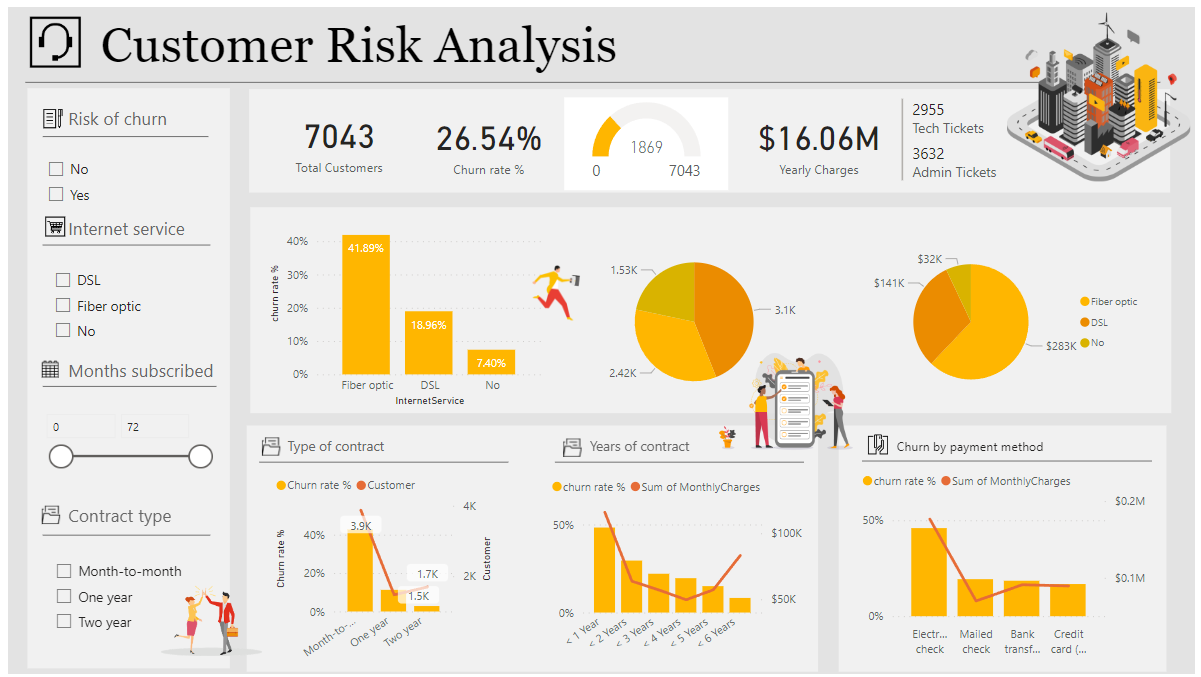

What the dashboard file says about the page in this screenshot:
{"tool":"powerbi","page":{"name":"Customer Risk Analysis","canvas":[1280,720],"ordinal":1},"visuals":[{"type":"basicShape","box":[249.8,87.8,1013.8,113.8],"z":0},{"type":"basicShape","box":[892.2,448.5,360.8,271],"z":1000},{"type":"basicShape","box":[251.8,448.5,628.9,271],"z":2000},{"type":"basicShape","box":[251.8,214.2,1013.8,226.7],"z":3000},{"type":"basicShape","box":[18.3,81,222.8,638.6],"z":4000},{"type":"card","fields":{"Values":["Count(01 Churn-Dataset.customerID)"]},"box":[260,88,194,114],"z":5000},{"type":"card","fields":{"Values":["01 Churn-Dataset.churn rate %"]},"box":[421.4,85.7,194.3,121.4],"z":6000},{"type":"card","fields":{"Values":["Sum(01 Churn-Dataset.TotalCharges)"]},"box":[777.1,88.6,194.3,115.7],"z":7000},{"type":"clusteredColumnChart","fields":{"Y":["01 Churn-Dataset.churn rate %"],"Category":["01 Churn-Dataset.InternetService"]},"box":[277.1,207.1,304.3,228.6],"z":8000},{"type":"pieChart","fields":{"Y":["CountNonNull(01 Churn-Dataset.InternetService)"],"Category":["01 Churn-Dataset.InternetService"]},"box":[600,248.6,280,181.4],"z":9000},{"type":"pieChart","fields":{"Category":["01 Churn-Dataset.InternetService"],"Y":["Sum(01 Churn-Dataset.MonthlyCharges)"]},"box":[915.7,248.6,315.7,181.4],"z":10000},{"type":"gauge","fields":{"Y":["01 Churn-Dataset.Count of Churn for Yes"],"MaxValue":["CountNonNull(01 Churn-Dataset.Churn)"]},"box":[600,97.1,177.1,100],"z":11000},{"type":"lineClusteredColumnComboChart","fields":{"Category":["01 Churn-Dataset.Contract"],"Y":["01 Churn-Dataset.churn rate %"],"Y2":["CountNonNull(01 Churn-Dataset.customerID)"]},"box":[284.3,496.5,244.3,222],"z":12000},{"type":"lineClusteredColumnComboChart","fields":{"Y":["01 Churn-Dataset.churn rate %"],"Category":["01 Churn-Dataset.Loyalty"],"Y2":["Sum(01 Churn-Dataset.MonthlyCharges)"]},"box":[581.4,497.8,280,217.9],"z":13000},{"type":"lineClusteredColumnComboChart","fields":{"Y":["01 Churn-Dataset.churn rate %"],"Y2":["Sum(01 Churn-Dataset.MonthlyCharges)"],"Category":["01 Churn-Dataset.PaymentMethod"]},"box":[916.4,490.6,315.7,217.1],"z":14000},{"type":"multiRowCard","fields":{"Values":["Sum(01 Churn-Dataset.numTechTickets)","Sum(01 Churn-Dataset.numAdminTickets)"]},"box":[958.6,94.3,150,101.4],"z":15000},{"type":"textbox","box":[94.5,4.8,1167.1,75.2],"z":16000},{"type":"basicShape","box":[9,61,1244.3,40.1],"z":17000},{"type":"image","box":[17.4,4.8,67.5,65.6],"z":18000},{"type":"image","box":[1072.6,0,207.4,193.9],"z":19000},{"type":"textbox","box":[59.8,102.2,174.6,40.5],"z":20000},{"type":"basicShape","box":[28,120.6,198.7,39.5],"z":21000},{"type":"image","box":[31.8,105.1,34.7,30.9],"z":22000},{"type":"slicer","fields":{"Values":["01 Churn-Dataset.Churn"]},"box":[31.4,155.7,195.7,70],"z":23000},{"type":"basicShape","box":[28,237,200.6,38.6],"z":24000},{"type":"textbox","box":[59.8,221.2,180.4,40.5],"z":25000},{"type":"image","box":[34.7,219.9,31.8,34.7],"z":26000},{"type":"slicer","fields":{"Values":["01 Churn-Dataset.InternetService"]},"box":[38.6,275.7,170,95.7],"z":27000},{"type":"basicShape","box":[28,389.7,207.4,38.6],"z":28000},{"type":"image","box":[31.8,374.3,28,34.7],"z":29000},{"type":"textbox","box":[59.8,374.3,185.2,39.5],"z":30000},{"type":"slicer","fields":{"Values":["01 Churn-Dataset.tenure"]},"box":[28.6,428.6,200,85.7],"z":31000},{"type":"basicShape","box":[28,549.8,200.6,39.5],"z":32000},{"type":"textbox","box":[59.8,529.6,159.2,40.5],"z":33000},{"type":"image","box":[31.8,524.7,29.9,45.3],"z":34000},{"type":"slicer","fields":{"Values":["01 Churn-Dataset.Contract"]},"box":[40,590,168.6,107.1],"z":35000},{"type":"image","box":[150.5,610.6,136,105.1],"z":36000},{"type":"image","box":[752.4,361.7,191,129.3],"z":37000},{"type":"image","box":[557.5,242.1,66.6,129.3],"z":38000},{"type":"textbox","box":[296.1,459.1,237.3,40.5],"z":39000},{"type":"basicShape","box":[261.4,471.7,288.4,39.5],"z":40000},{"type":"image","box":[269.1,451.4,29.9,45.3],"z":41000},{"type":"basicShape","box":[579.7,471.7,288.4,39.5],"z":42000},{"type":"image","box":[593.2,452.4,29.9,45.3],"z":43000},{"type":"textbox","box":[622.2,459.1,270.1,40.5],"z":44000},{"type":"textbox","box":[954.3,459.1,270.1,40.5],"z":45000},{"type":"image","box":[922.1,452.4,31.8,39.5],"z":46000},{"type":"basicShape","box":[911.5,469.8,332.8,39.5],"z":47000}]}

Visuals, with their boxes in screenshot pixels (x1, y1, x2, y2), scaled from the page's 1280x720 canvas onto the 1201x677 screenshot:
basicShape: x1=234, y1=83, x2=1186, y2=190
basicShape: x1=837, y1=422, x2=1176, y2=676
basicShape: x1=236, y1=422, x2=826, y2=676
basicShape: x1=236, y1=201, x2=1187, y2=415
basicShape: x1=17, y1=76, x2=226, y2=676
card - Count(01 Churn-Dataset.customerID): x1=244, y1=83, x2=426, y2=190
card - 01 Churn-Dataset.churn rate %: x1=395, y1=81, x2=578, y2=195
card - Sum(01 Churn-Dataset.TotalCharges): x1=729, y1=83, x2=911, y2=192
clusteredColumnChart - 01 Churn-Dataset.churn rate % x 01 Churn-Dataset.InternetService: x1=260, y1=195, x2=546, y2=410
pieChart - CountNonNull(01 Churn-Dataset.InternetService) x 01 Churn-Dataset.InternetService: x1=563, y1=234, x2=826, y2=404
pieChart - 01 Churn-Dataset.InternetService x Sum(01 Churn-Dataset.MonthlyCharges): x1=859, y1=234, x2=1155, y2=404
gauge - 01 Churn-Dataset.Count of Churn for Yes x CountNonNull(01 Churn-Dataset.Churn): x1=563, y1=91, x2=729, y2=185
lineClusteredColumnComboChart - 01 Churn-Dataset.Contract x 01 Churn-Dataset.churn rate %: x1=267, y1=467, x2=496, y2=676
lineClusteredColumnComboChart - 01 Churn-Dataset.churn rate % x 01 Churn-Dataset.Loyalty: x1=546, y1=468, x2=808, y2=673
lineClusteredColumnComboChart - 01 Churn-Dataset.churn rate % x Sum(01 Churn-Dataset.MonthlyCharges): x1=860, y1=461, x2=1156, y2=665
multiRowCard - Sum(01 Churn-Dataset.numTechTickets) x Sum(01 Churn-Dataset.numAdminTickets): x1=899, y1=89, x2=1040, y2=184
textbox: x1=89, y1=5, x2=1184, y2=75
basicShape: x1=8, y1=57, x2=1176, y2=95
image: x1=16, y1=5, x2=80, y2=66
image: x1=1006, y1=0, x2=1200, y2=182
textbox: x1=56, y1=96, x2=220, y2=134
basicShape: x1=26, y1=113, x2=213, y2=151
image: x1=30, y1=99, x2=62, y2=128
slicer - 01 Churn-Dataset.Churn: x1=29, y1=146, x2=213, y2=212
basicShape: x1=26, y1=223, x2=214, y2=259
textbox: x1=56, y1=208, x2=225, y2=246
image: x1=33, y1=207, x2=62, y2=239
slicer - 01 Churn-Dataset.InternetService: x1=36, y1=259, x2=196, y2=349
basicShape: x1=26, y1=366, x2=221, y2=403
image: x1=30, y1=352, x2=56, y2=385
textbox: x1=56, y1=352, x2=230, y2=389
slicer - 01 Churn-Dataset.tenure: x1=27, y1=403, x2=214, y2=484
basicShape: x1=26, y1=517, x2=214, y2=554
textbox: x1=56, y1=498, x2=205, y2=536
image: x1=30, y1=493, x2=58, y2=536
slicer - 01 Churn-Dataset.Contract: x1=38, y1=555, x2=196, y2=655
image: x1=141, y1=574, x2=269, y2=673
image: x1=706, y1=340, x2=885, y2=462
image: x1=523, y1=228, x2=586, y2=349
textbox: x1=278, y1=432, x2=500, y2=470
basicShape: x1=245, y1=444, x2=516, y2=481
image: x1=252, y1=424, x2=281, y2=467
basicShape: x1=544, y1=444, x2=815, y2=481
image: x1=557, y1=425, x2=585, y2=468
textbox: x1=584, y1=432, x2=837, y2=470
textbox: x1=895, y1=432, x2=1149, y2=470
image: x1=865, y1=425, x2=895, y2=463
basicShape: x1=855, y1=442, x2=1168, y2=479
